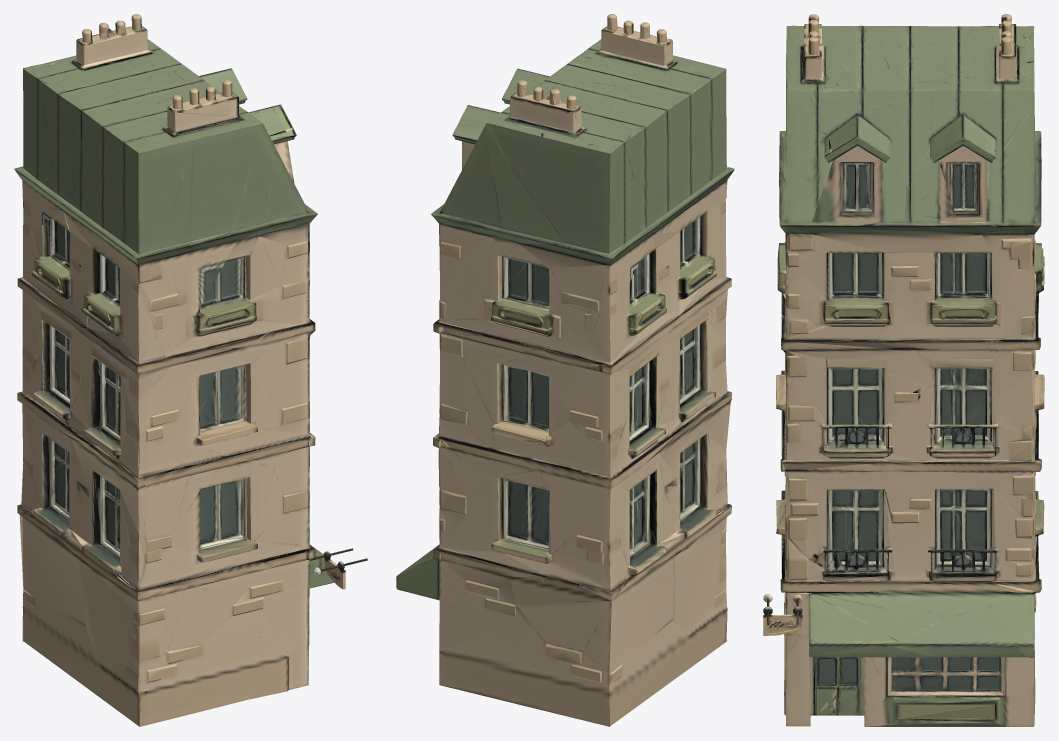
The model's file is building2-optimized.glb.
The picture shows the model from 3 angles, left to right: view 1: azimuth 30°, elevation 25°; view 2: azimuth 150°, elevation 25°; view 3: azimuth 270°, elevation 25°; orthographic projection. The views are drawn at different scales.
Visible parts, largest first — view 1: output_unwrapped; view 2: output_unwrapped; view 3: output_unwrapped.
Boxes of the visible parts, x1,y1,x2,y2 form: output_unwrapped: (14, 14, 367, 726); output_unwrapped: (396, 14, 734, 726); output_unwrapped: (763, 14, 1044, 726).
Bounding box in the file's own units: 0.783 × 2 × 0.781.
Materials: 1 (1 with a texture image).
